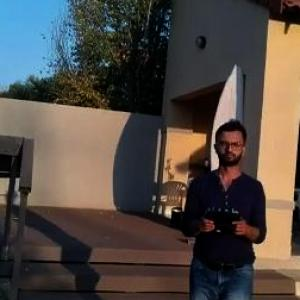follow: (174, 112, 270, 299)
